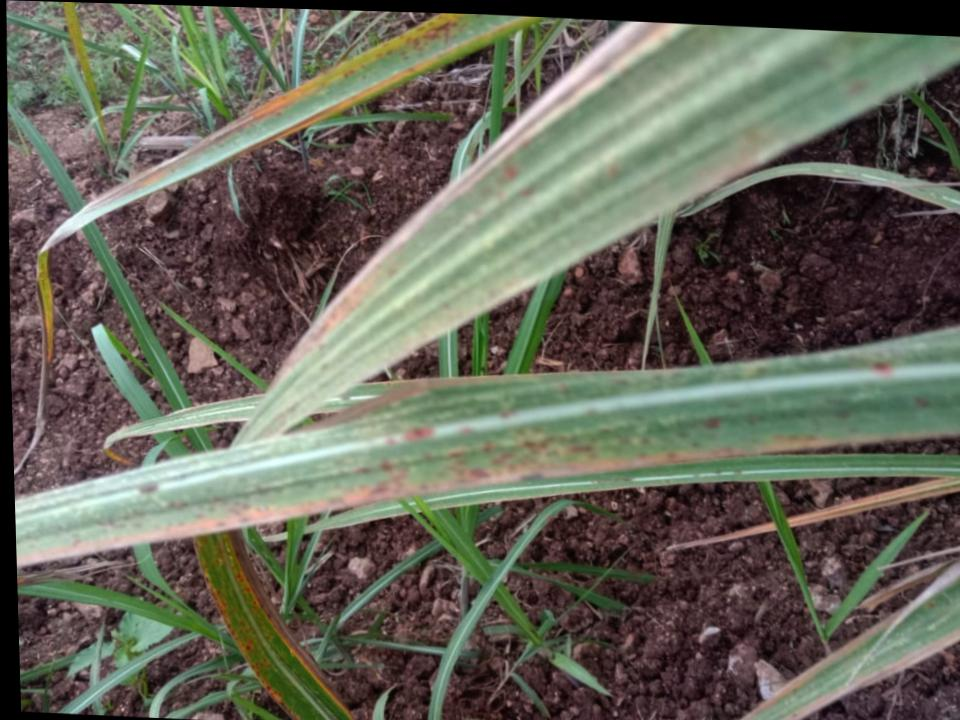RedRot: (402, 425, 434, 440), (871, 361, 894, 376), (139, 483, 160, 496)
Rust: (16, 389, 936, 566), (194, 535, 306, 720), (270, 250, 395, 386), (340, 16, 471, 79), (221, 532, 276, 647), (478, 146, 535, 211)
